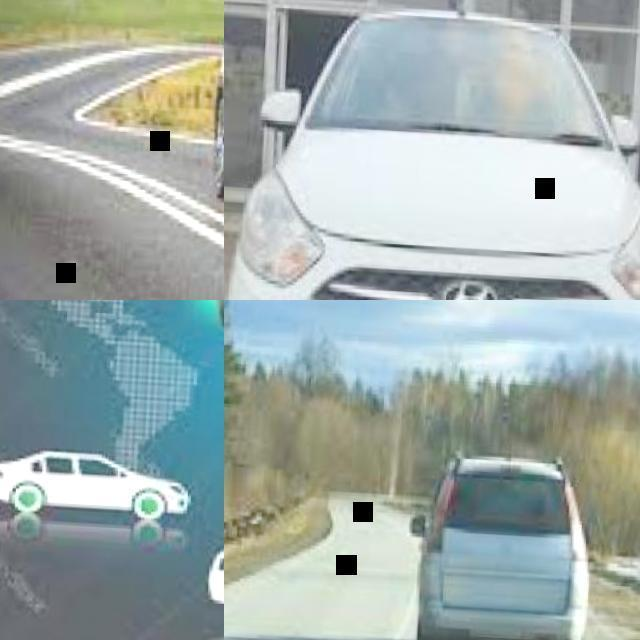car: (231, 6, 635, 433), (0, 449, 208, 639), (413, 456, 591, 639)
